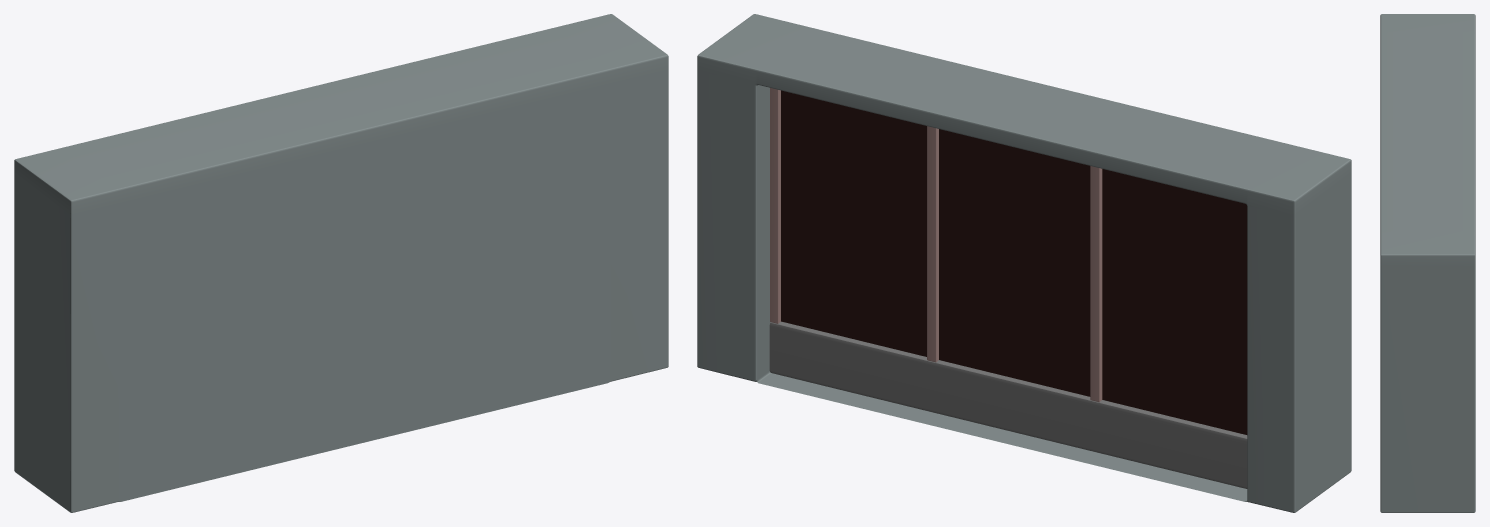
File: EdenGate.fbx
The picture shows the model from 3 angles, left to right: view 1: azimuth 30°, elevation 25°; view 2: azimuth 150°, elevation 25°; view 3: azimuth 270°, elevation 25°; orthographic projection. The views are drawn at different scales.
Visible parts, largest first — view 1: polySurface116; view 2: polySurface116; view 3: polySurface116.
Boxes of the visible parts, x1=… form: polySurface116: x1=14, y1=14, x2=668, y2=512; polySurface116: x1=697, y1=14, x2=1351, y2=512; polySurface116: x1=1380, y1=14, x2=1475, y2=512.
Size of the model in its own units: 6 by 3.03 by 1.
